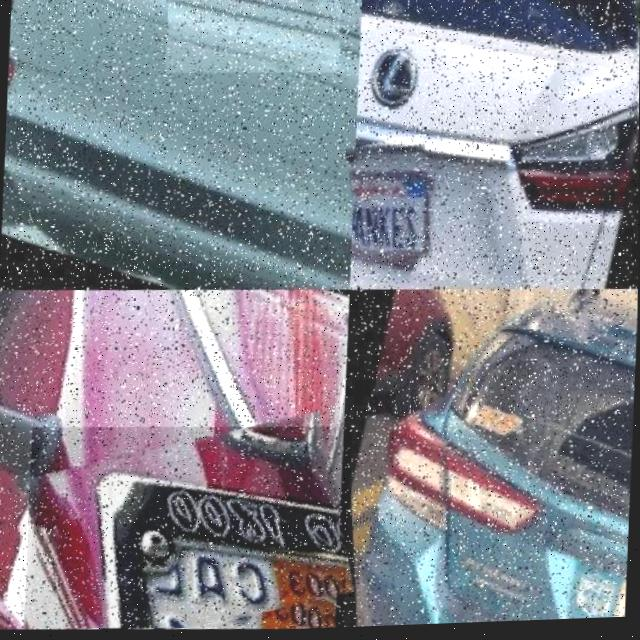LicensePlate: (24, 418, 353, 639), (165, 0, 341, 79), (345, 137, 440, 271)
